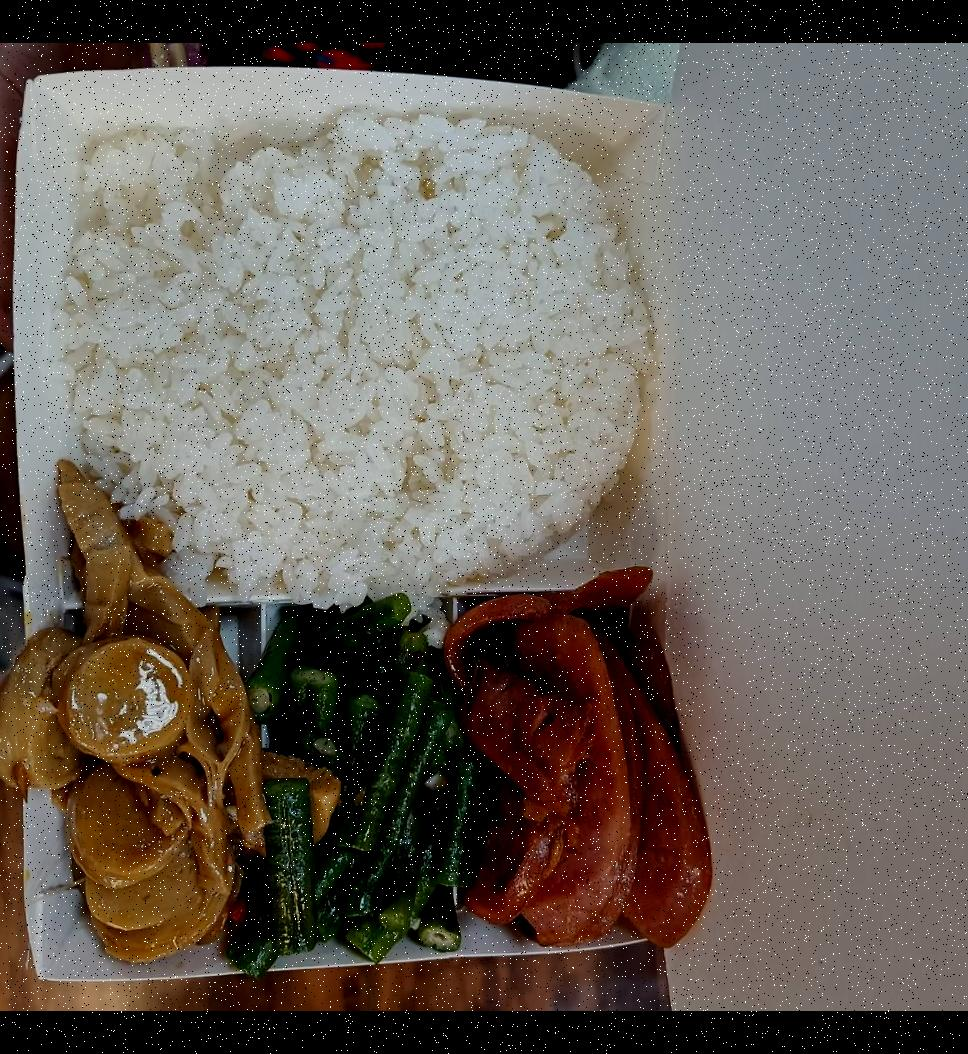big grilled chicken leg: (0, 73, 718, 989)
big herbal chicken leg: (87, 131, 625, 593)
braised fish fillet: (36, 591, 243, 963), (246, 603, 458, 960)
braised pork: (453, 584, 726, 954)
